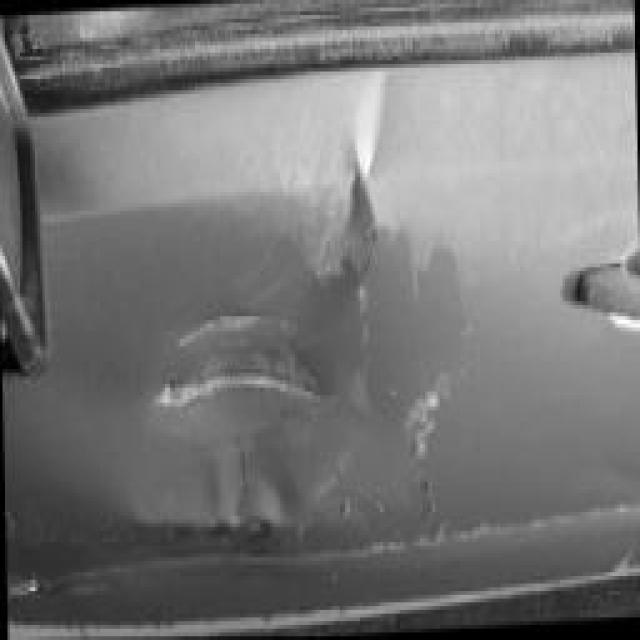Door: (50, 109, 562, 611)
